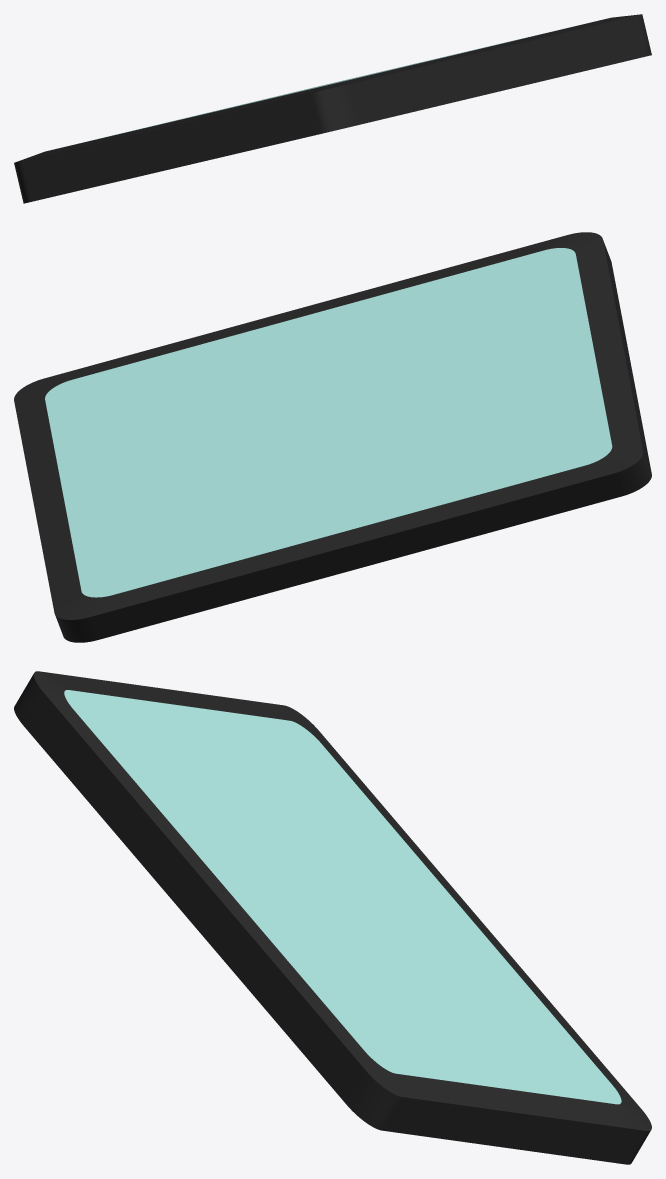
The picture shows the model from 3 angles, top to bottom: view 1: azimuth 30°, elevation 25°; view 2: azimuth 150°, elevation 25°; view 3: azimuth 270°, elevation 25°; orthographic projection. The views are drawn at different scales.
Parts seen in each view (by area): view 1: Cube.033; view 2: Cube.033; view 3: Cube.033.
Part boxes in pixels (box(x1,y1,x2,y2)): Cube.033: box(14, 14, 651, 203); Cube.033: box(14, 232, 651, 642); Cube.033: box(14, 671, 651, 1164).
Bounding box in the file's own units: 54.36 × 25.56 × 44.21.
